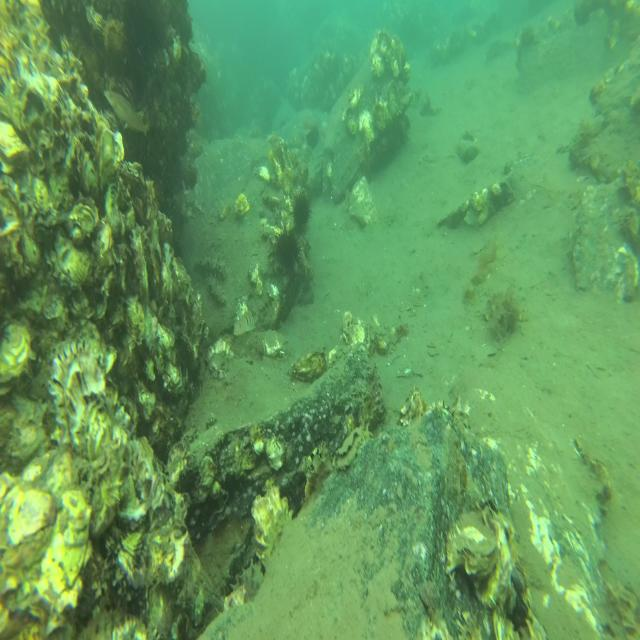echinus: (271, 227, 302, 276), (288, 189, 313, 237)
holothurian: (191, 252, 226, 279), (205, 274, 227, 311)
